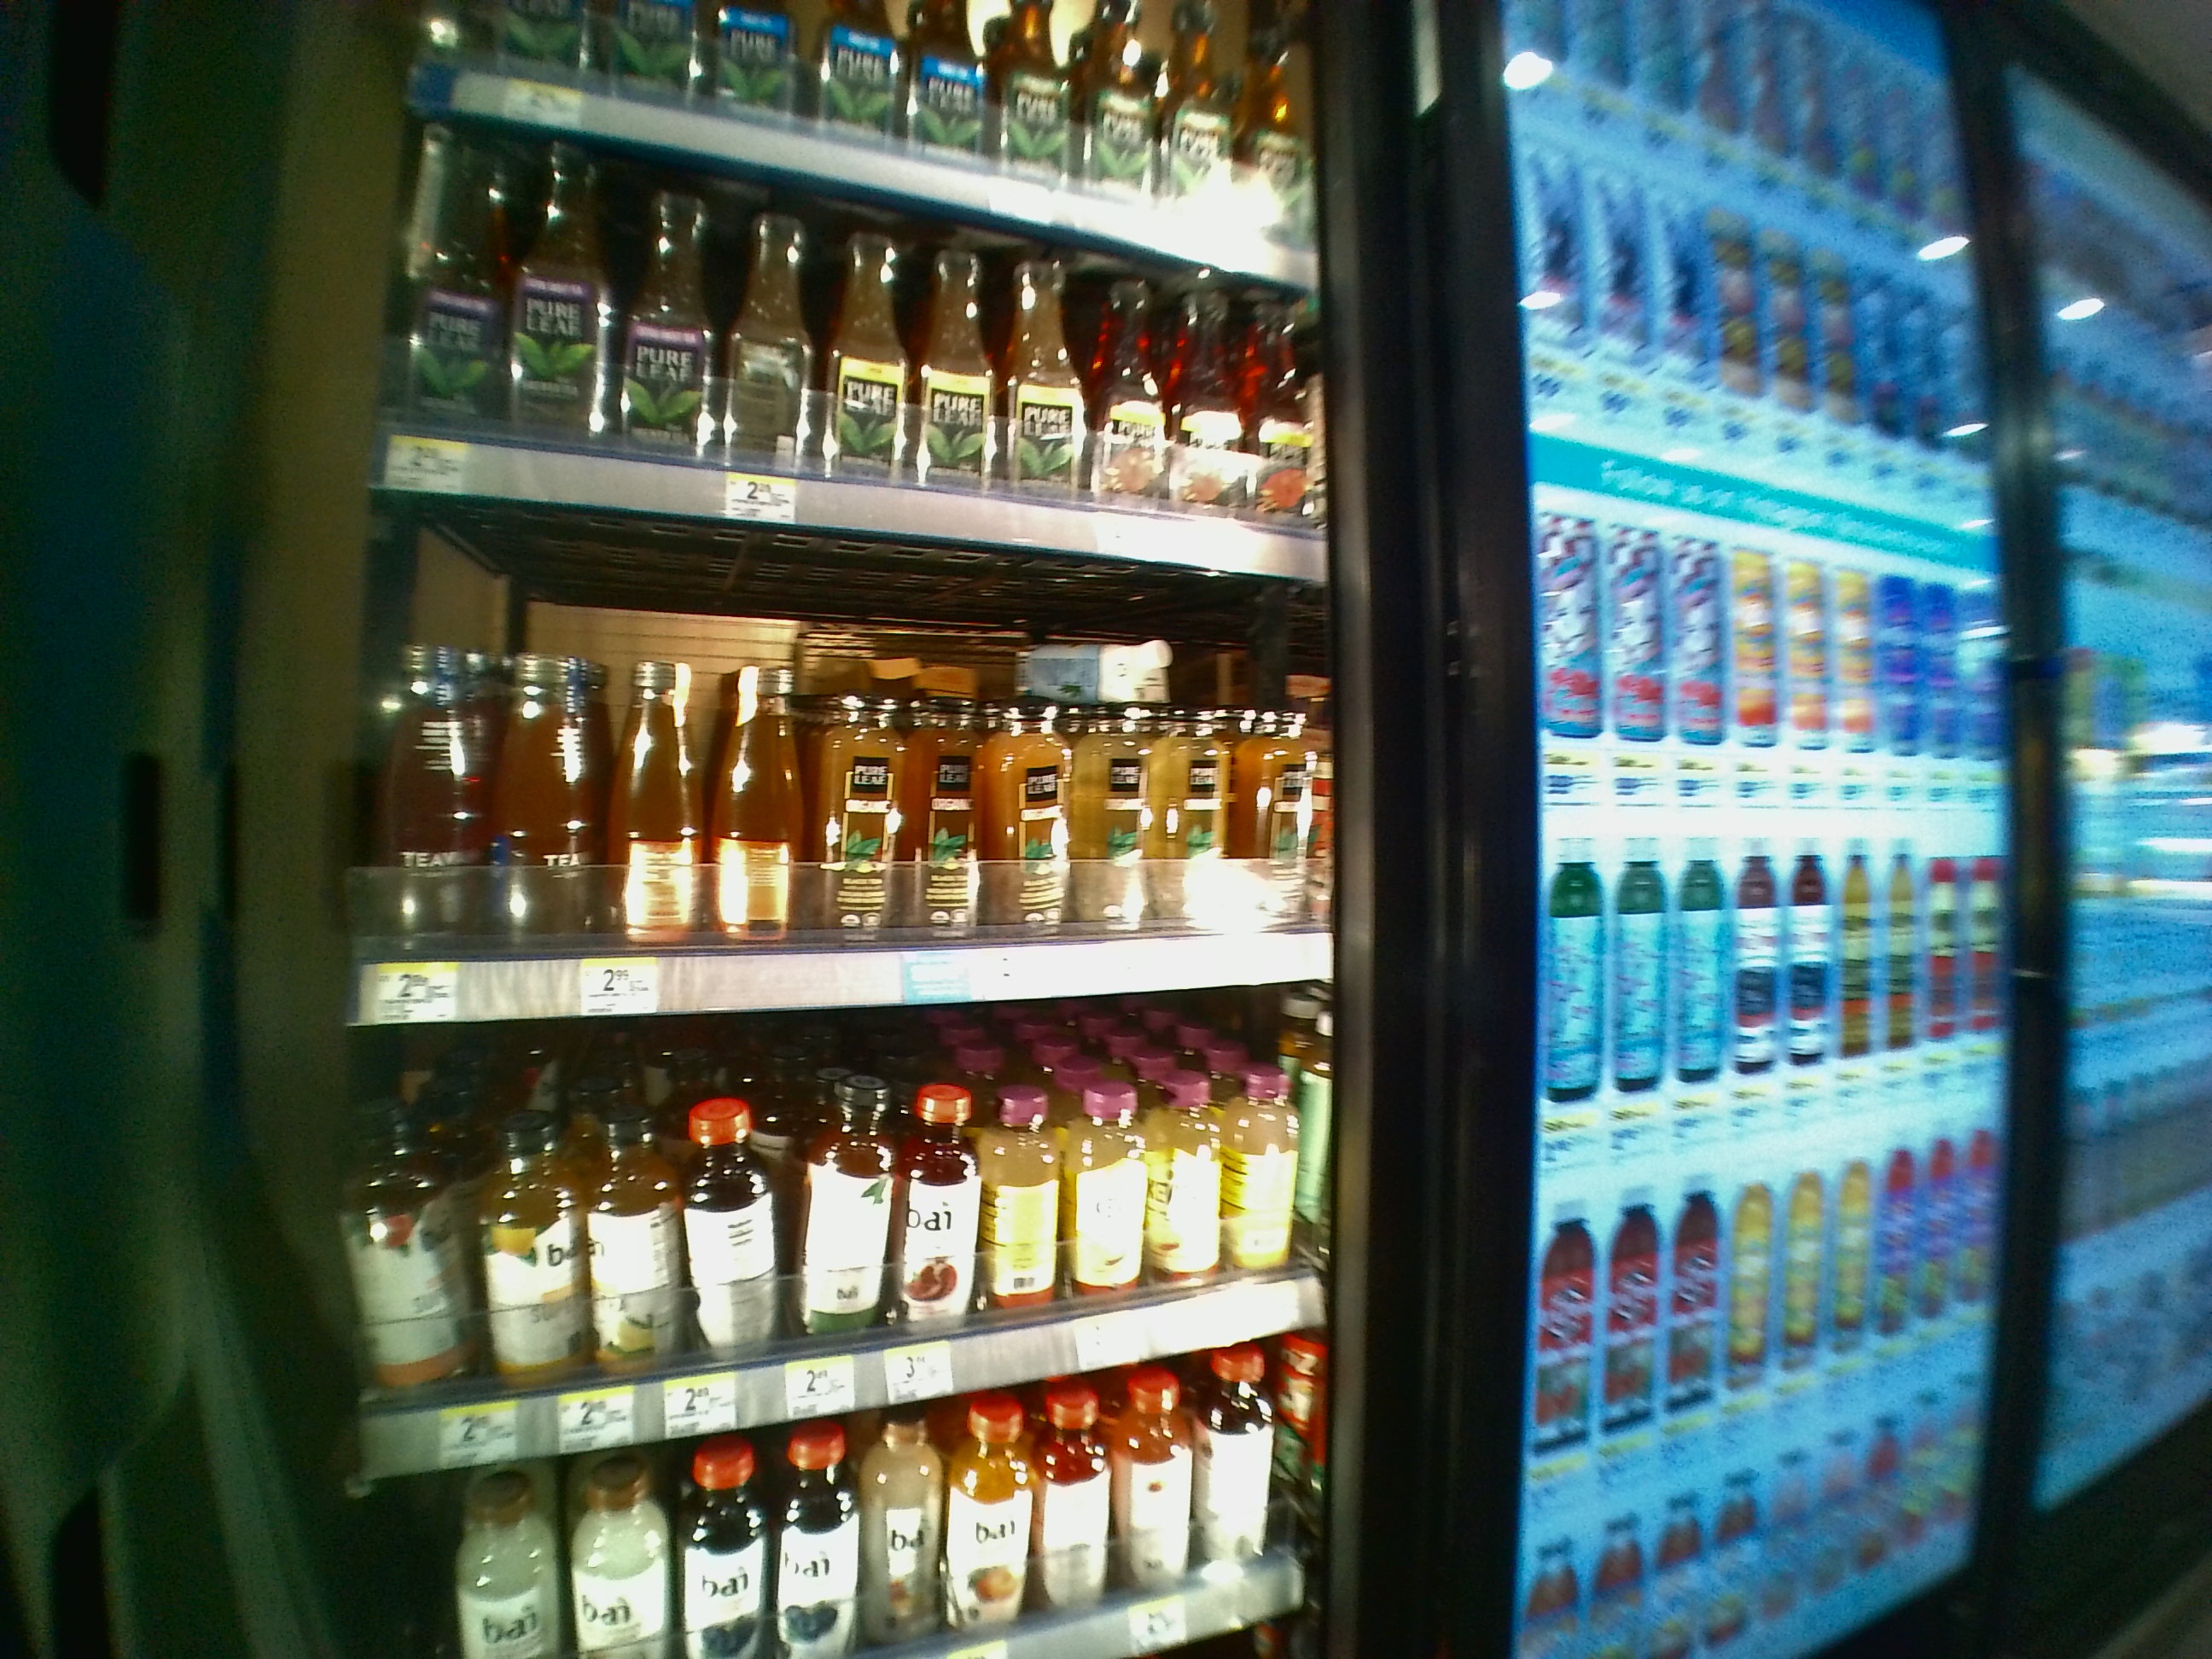shelf: (341, 521, 1338, 1028), (331, 1040, 1334, 1476)
